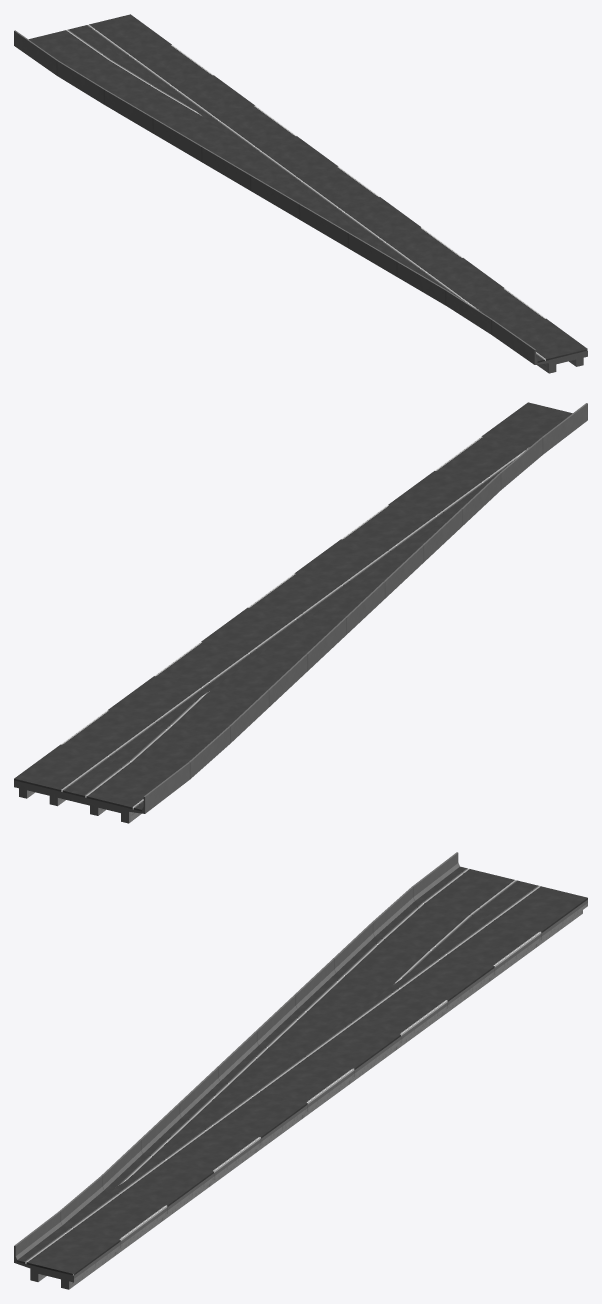
File: 【組立式】高速道路(上り合流_右)_W7.9m×D55m×H0.1m.fbx
The picture shows the model from 3 angles, top to bottom: view 1: azimuth 30°, elevation 25°; view 2: azimuth 150°, elevation 25°; view 3: azimuth 330°, elevation 25°; orthographic projection. The views are drawn at different scales.
Visible parts, largest first — view 1: 道路, 高架橋; view 2: 道路, 高架橋; view 3: 道路, 高架橋.
Part boxes in pixels (x1,y1,x2,y2): 道路: (28,14,587,362); 高架橋: (14,30,587,373); 道路: (14,402,572,811); 高架橋: (14,403,587,823); 道路: (17,866,587,1275); 高架橋: (14,852,587,1289).
Bounding box in the file's own units: 8.1 × 1.8 × 55.
